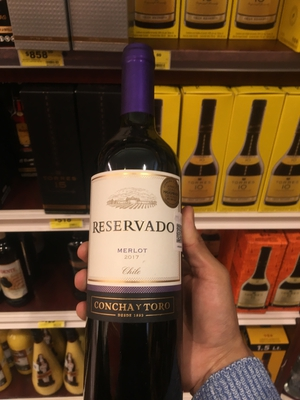reservado merlot: (76, 37, 217, 400)
